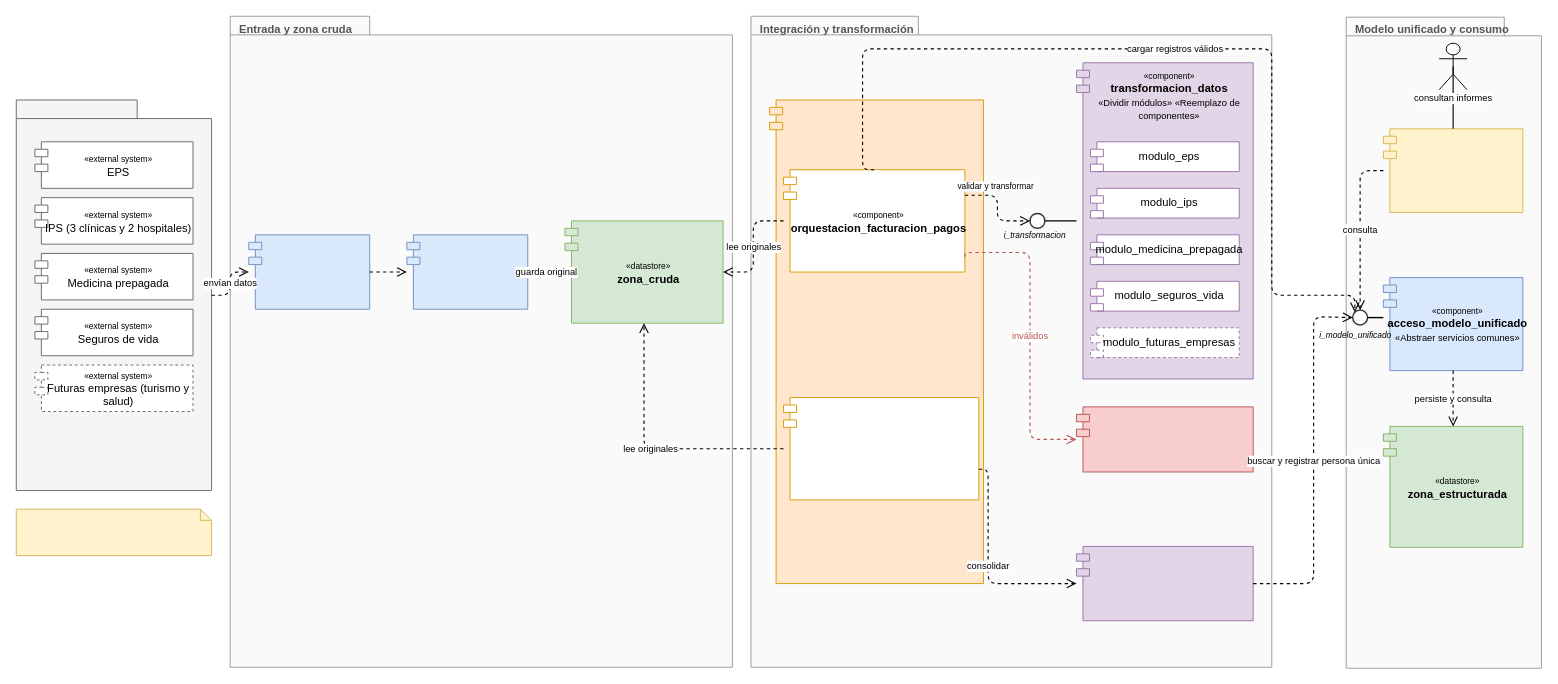
This 1558x684 diagram has some shape labels left out. The box of each missing label's shape, as (x1, y1, x2, y2) in pixels:
Empresas de la holding: (15, 99, 212, 491)
Formato actual: CSV. Abierto a nuevos formatos.: (15, 508, 212, 556)
«component» consolidacion_personas: (1076, 545, 1253, 621)
«component» intermediario « bus »: (406, 234, 528, 309)
«component» orquestacion_consolidacion_personas: (783, 397, 979, 500)
«component» orquestador_integracion «Orquestar»: (769, 99, 983, 584)
«component» recepcion: (248, 234, 370, 309)
«component» reporteria «Parametrización»: (1382, 128, 1523, 213)
«datastore» bd_rechazados: (1076, 406, 1253, 472)
